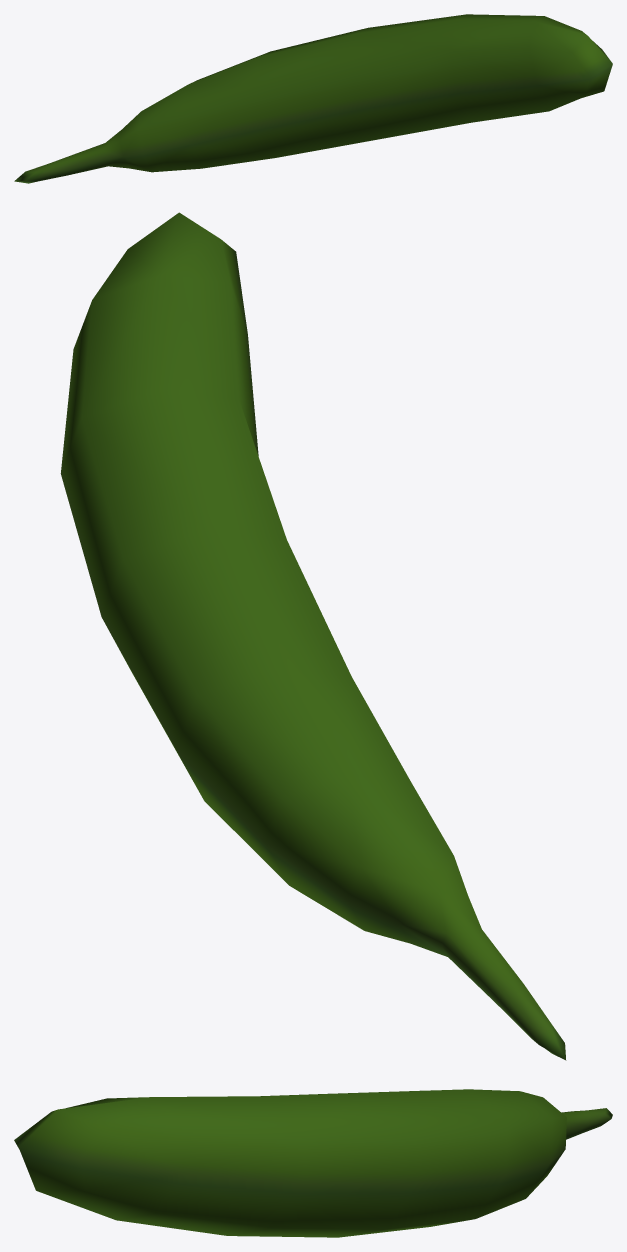
File: GreenBean (14).fbx
3 views of the same model, one above another, from view 1: azimuth 30°, elevation 25°; view 2: azimuth 150°, elevation 25°; view 3: azimuth 270°, elevation 25° (orthographic). The views are drawn at different scales.
Visible parts, largest first — view 1: Apple (4); view 2: Apple (4); view 3: Apple (4).
Boxes of the visible parts, x1=… form: Apple (4): x1=14, y1=14, x2=612, y2=183; Apple (4): x1=60, y1=212, x2=566, y2=1060; Apple (4): x1=14, y1=1089, x2=612, y2=1237.
Size of the model in its own units: 0.7766 by 0.3535 by 0.6823.
